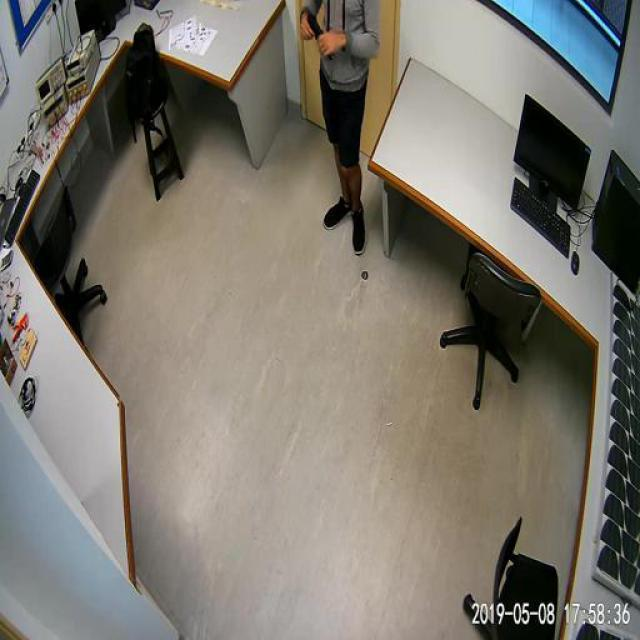gun: (300, 8, 330, 58)
